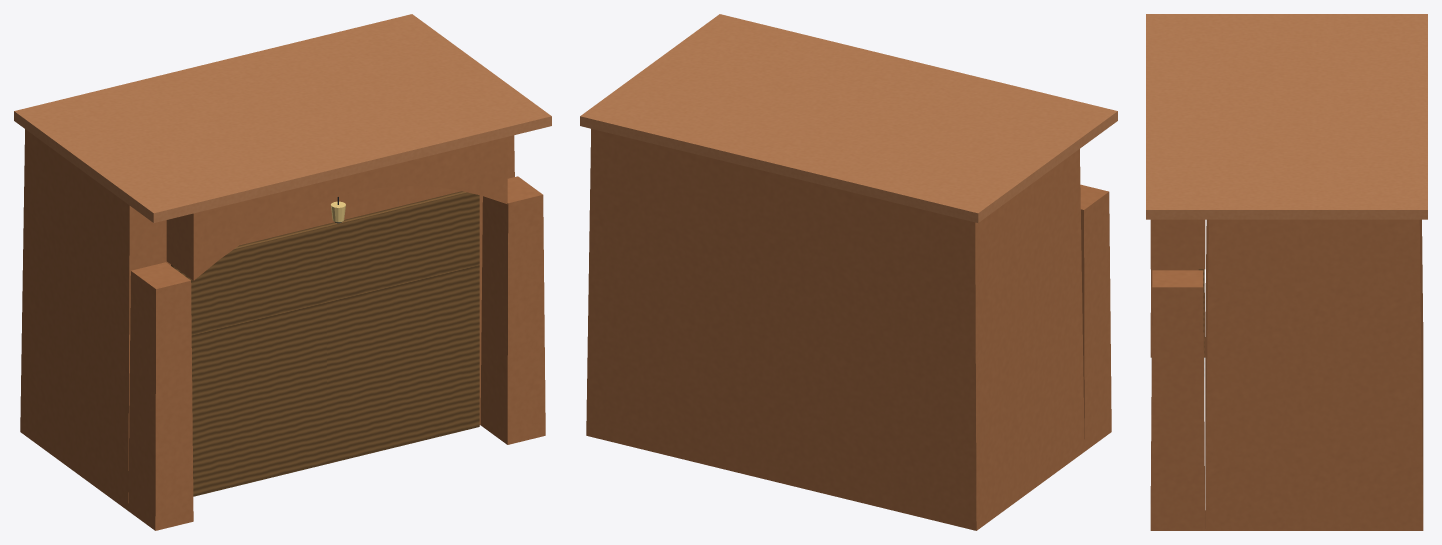
File: SM_Souq_Stall_W5D30H38.fbx
3 views of the same model, side by side, from view 1: azimuth 30°, elevation 25°; view 2: azimuth 150°, elevation 25°; view 3: azimuth 270°, elevation 25° (orthographic).
Parts seen in each view (by area): view 1: SM_Souq_Stall_W5D30H38; view 2: SM_Souq_Stall_W5D30H38; view 3: SM_Souq_Stall_W5D30H38.
Boxes of the visible parts, bbox=[...] form: SM_Souq_Stall_W5D30H38: bbox=[14, 14, 551, 530]; SM_Souq_Stall_W5D30H38: bbox=[580, 14, 1117, 530]; SM_Souq_Stall_W5D30H38: bbox=[1146, 14, 1427, 530].
Size of the model in its own units: 510 by 392 by 310.
5 materials, 5 textured.
